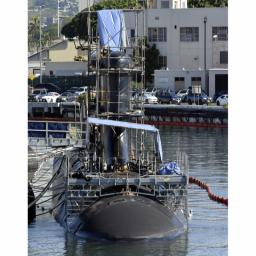submarine: (53, 54, 188, 241)
